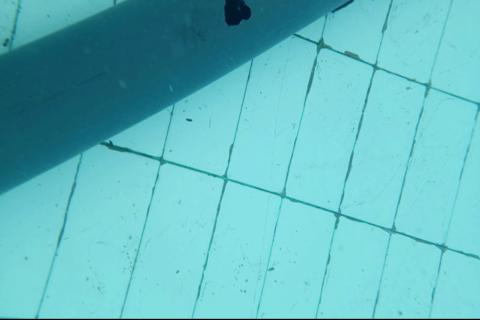kebocoran: (222, 0, 252, 28)
